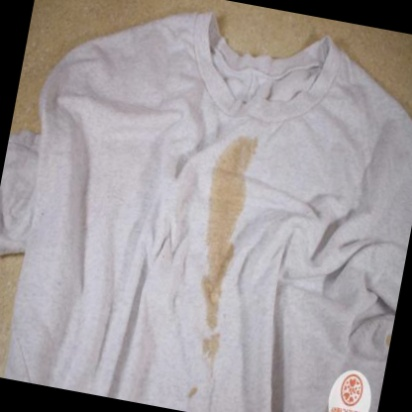coffee: (203, 136, 253, 247), (196, 246, 231, 324)
